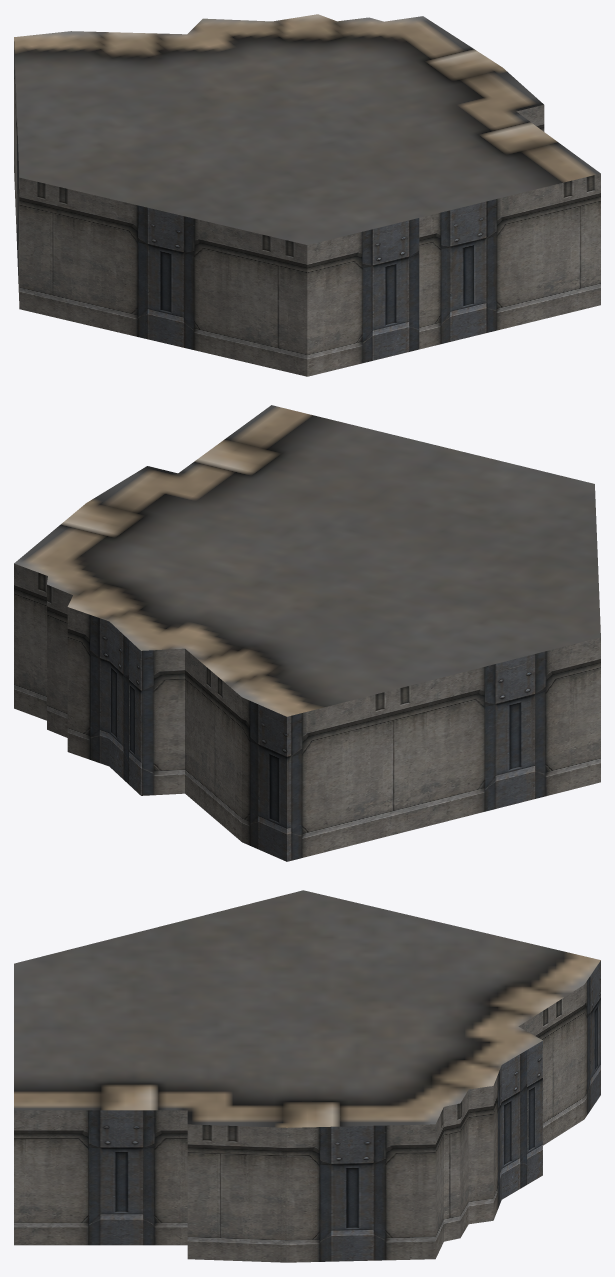
Rendered from building_heavy_56.glb.
The picture shows the model from 3 angles, top to bottom: view 1: azimuth 30°, elevation 25°; view 2: azimuth 150°, elevation 25°; view 3: azimuth 270°, elevation 25°; orthographic projection. The views are drawn at different scales.
Visible parts, largest first — view 1: buildings/saxarba/building_heavy/building_heavy_56; view 2: buildings/saxarba/building_heavy/building_heavy_56; view 3: buildings/saxarba/building_heavy/building_heavy_56.
Part boxes in pixels (x1,y1,x2,y2): buildings/saxarba/building_heavy/building_heavy_56: (14,14,600,376); buildings/saxarba/building_heavy/building_heavy_56: (14,405,600,861); buildings/saxarba/building_heavy/building_heavy_56: (14,890,600,1262).
Size of the model in its own units: 68 by 18 by 71.
